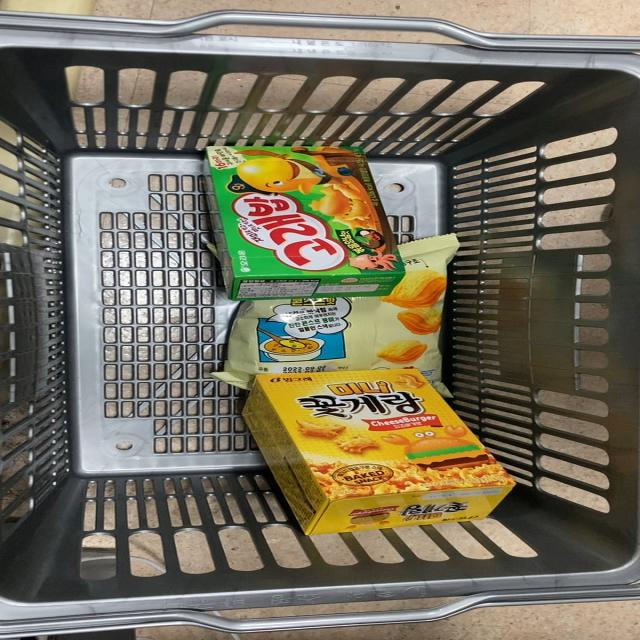ggobukchip: (232, 288, 447, 372)
goraebob: (211, 141, 397, 289)
minicrab: (235, 377, 510, 530)
